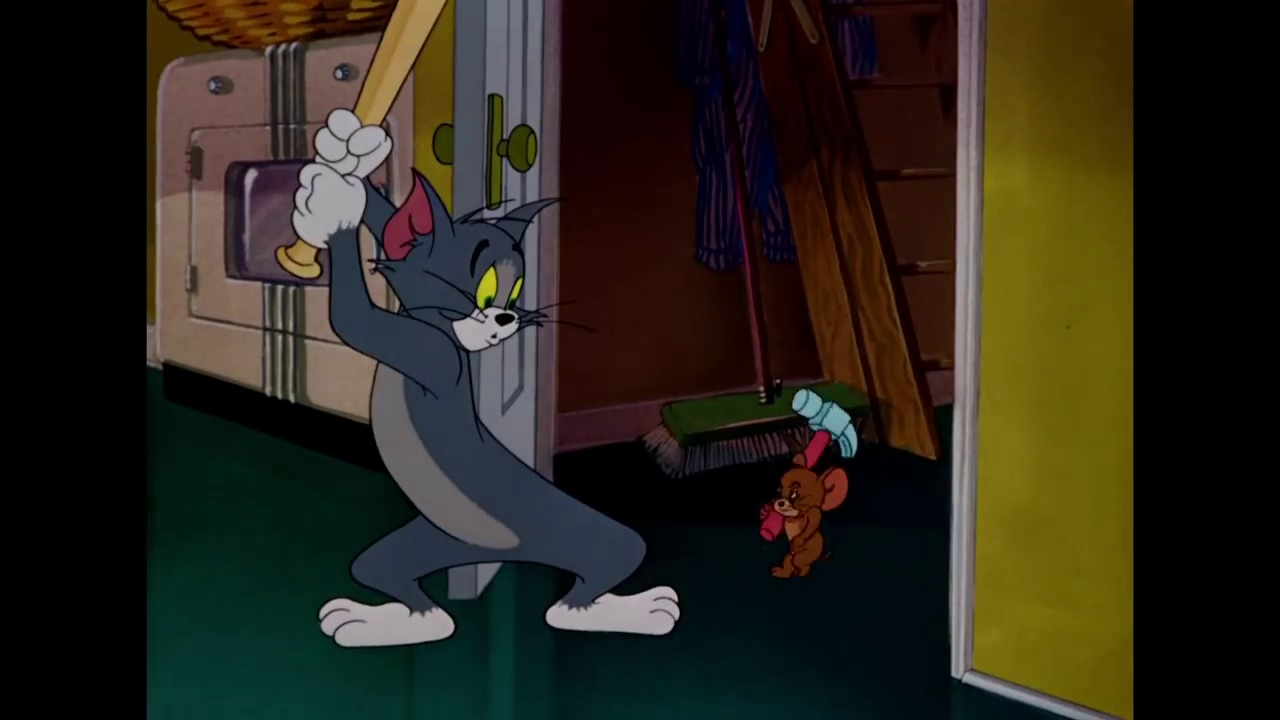tom: (363, 167, 560, 355)
